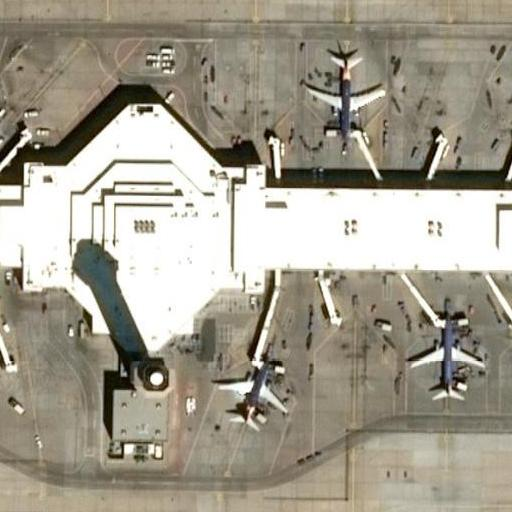Aircraft: (402, 304, 488, 403), (302, 42, 388, 136), (209, 356, 296, 434)
